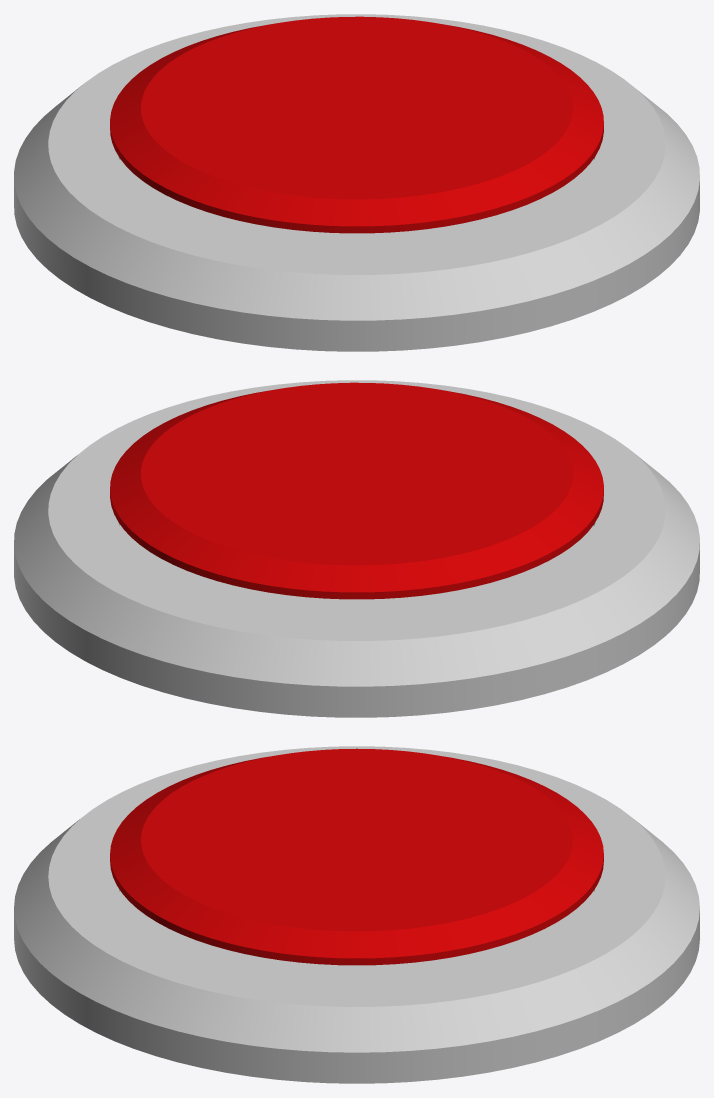
File: Knopf_Modell.dae
3 views of the same model, one above another, from view 1: azimuth 30°, elevation 25°; view 2: azimuth 150°, elevation 25°; view 3: azimuth 270°, elevation 25° (orthographic).
Parts seen in each view (by area): view 1: KNOPF_GRUND, KNOPF_KOPF; view 2: KNOPF_GRUND, KNOPF_KOPF; view 3: KNOPF_GRUND, KNOPF_KOPF.
Part boxes in pixels (x1,y1,x2,y2): KNOPF_GRUND: (14, 14, 699, 351); KNOPF_KOPF: (110, 16, 603, 233); KNOPF_GRUND: (14, 380, 699, 717); KNOPF_KOPF: (110, 382, 603, 599); KNOPF_GRUND: (14, 746, 699, 1083); KNOPF_KOPF: (110, 748, 603, 965).
Bounding box in the file's own units: 2 × 2 × 0.3175.
